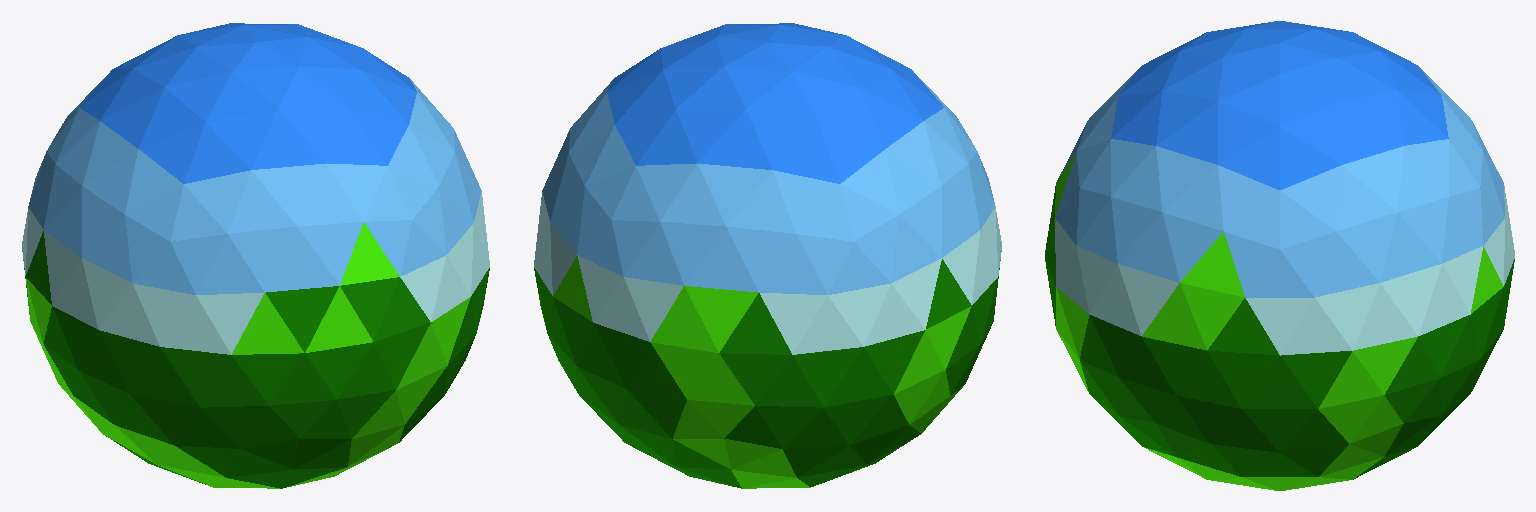
3 views of the same model, side by side, from view 1: azimuth 30°, elevation 25°; view 2: azimuth 150°, elevation 25°; view 3: azimuth 270°, elevation 25° (orthographic).
Parts seen in each view (by area): view 1: Icosphere; view 2: Icosphere; view 3: Icosphere.
Boxes of the visible parts, box(x1,y1,x2,y2) form: Icosphere: box(22, 23, 489, 488); Icosphere: box(534, 23, 1001, 488); Icosphere: box(1045, 21, 1514, 490).
Size of the model in its own units: 2 by 2 by 2.